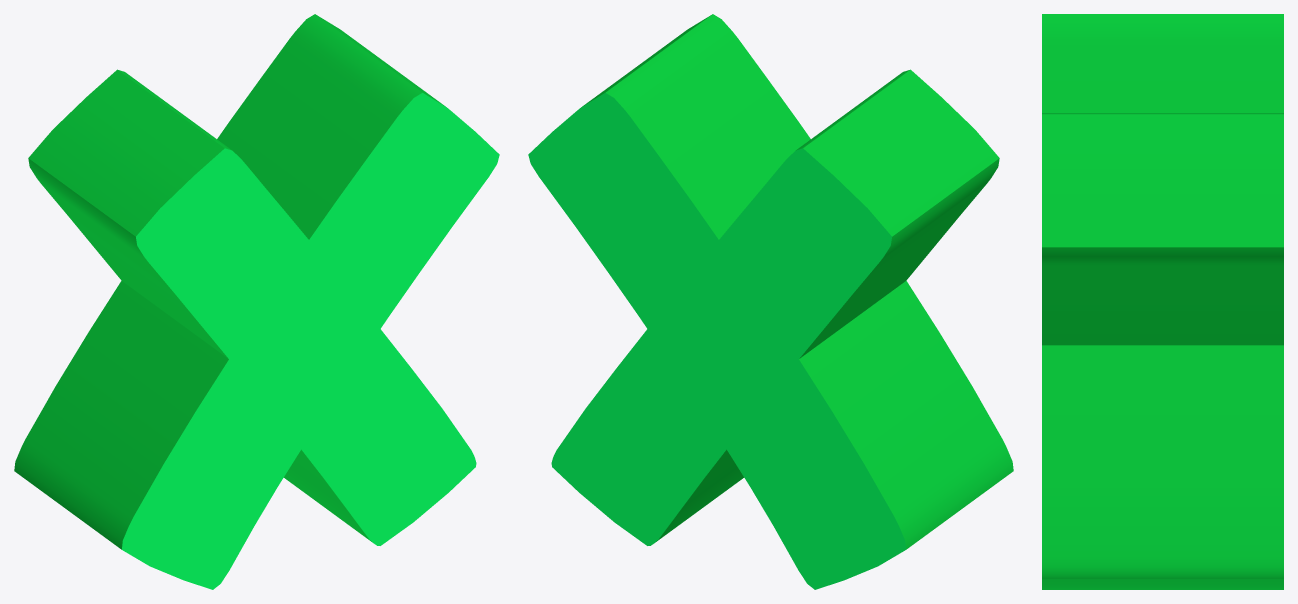
File: X_Zyzol_Green.glb
The picture shows the model from 3 angles, left to right: view 1: azimuth 30°, elevation 25°; view 2: azimuth 150°, elevation 25°; view 3: azimuth 270°, elevation 25°; orthographic projection. The views are drawn at different scales.
Visible parts, largest first — view 1: x_Zyzol_Green; view 2: x_Zyzol_Green; view 3: x_Zyzol_Green.
Boxes of the visible parts, box(x1,y1,x2,y2) form: x_Zyzol_Green: box(14, 14, 499, 589); x_Zyzol_Green: box(528, 14, 1013, 589); x_Zyzol_Green: box(1042, 14, 1283, 589).
Size of what is drawn, in the model's own units: 0.0913 by 0.103 by 0.045.
Materials: 2 (2 with a texture image).
